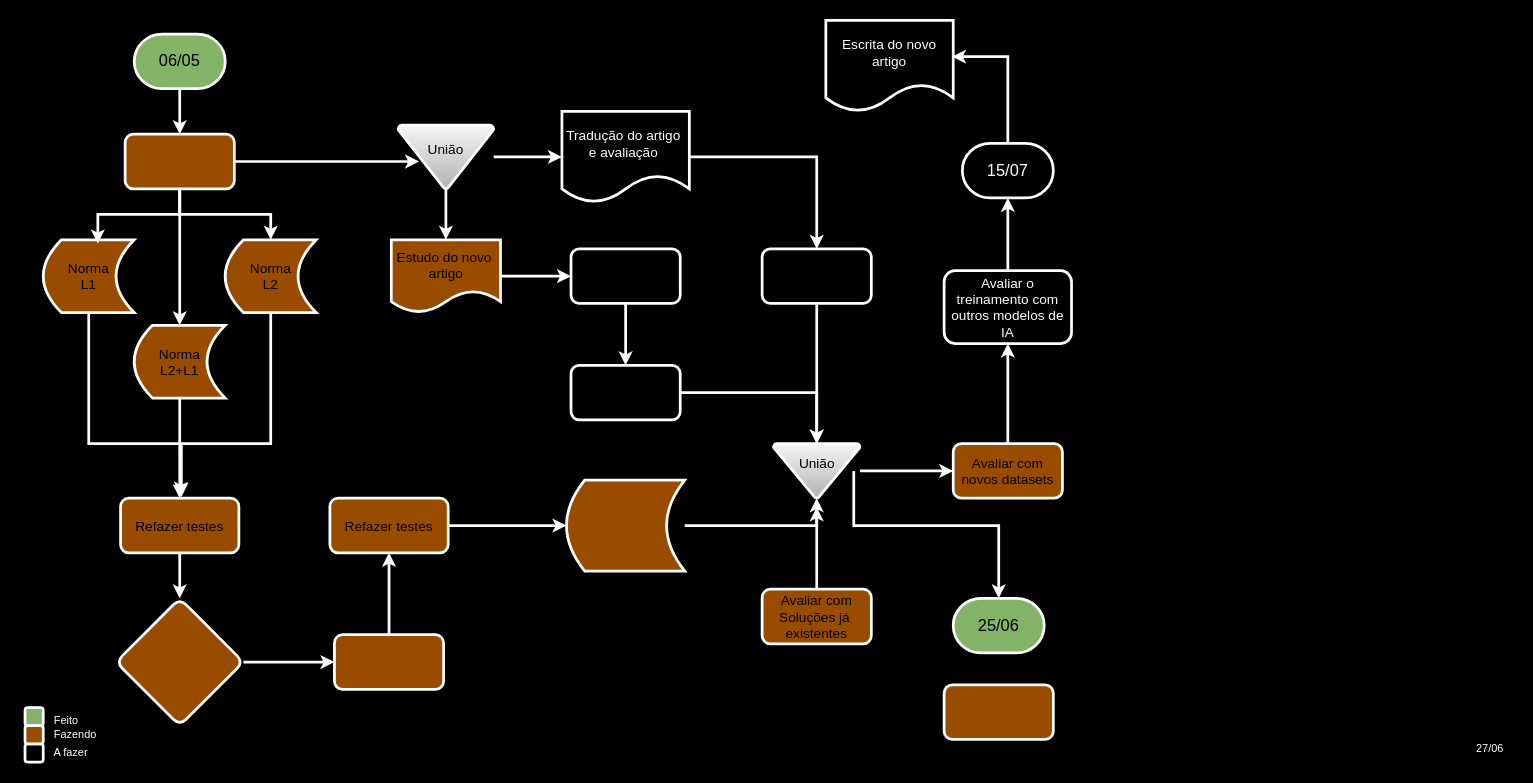
Image size: 1533x783. Some labels were removed from this diagram. Each missing label, with the centre of its shape:
Ajustar o código: point 389,661
Correções apontadas pelos revisores: point 816,275
GAN: point 998,711
Gerar novos gráficos: point 625,525
Implementar ataque proposto: point 625,275
Implementar nova solução: point 625,392
Ordenar dataset: point 179,161
Qual funciona melhor?: point 179,662
